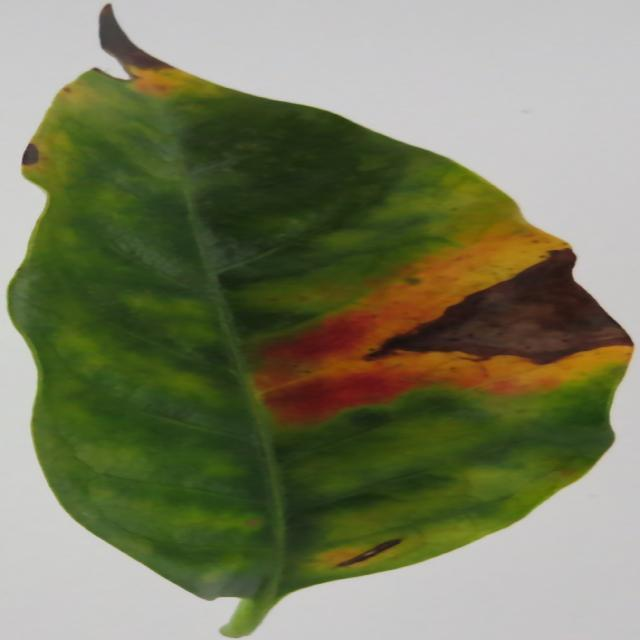DeficienciaNutricional-Fosforo: (9, 6, 631, 636)
